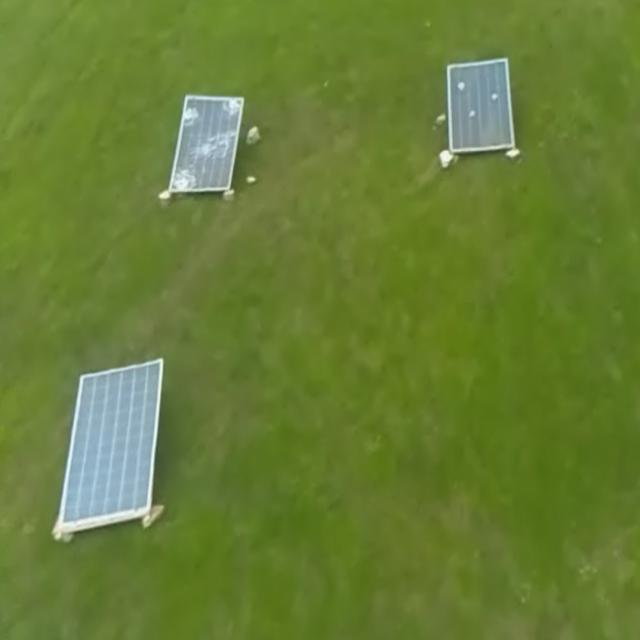faulty: (170, 95, 244, 193), (445, 63, 515, 152)
no faulty: (59, 366, 162, 527)
